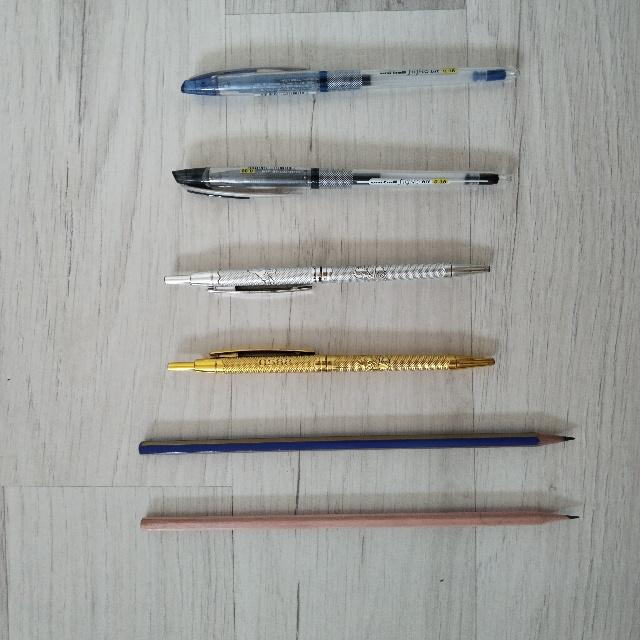pen: (173, 166, 509, 198), (181, 67, 517, 95)
pencil: (139, 433, 573, 454), (140, 511, 576, 530)
signature pen: (164, 263, 489, 292), (168, 349, 494, 373)
